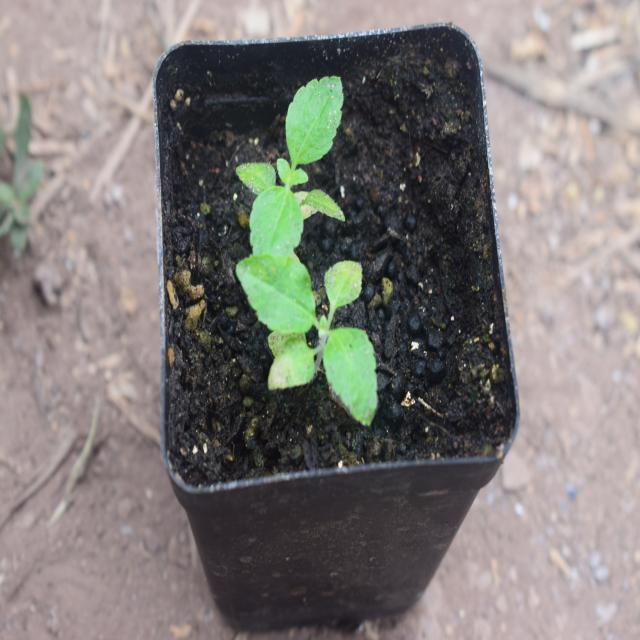billygoat_weed: (241, 236, 398, 422), (228, 85, 369, 262)
